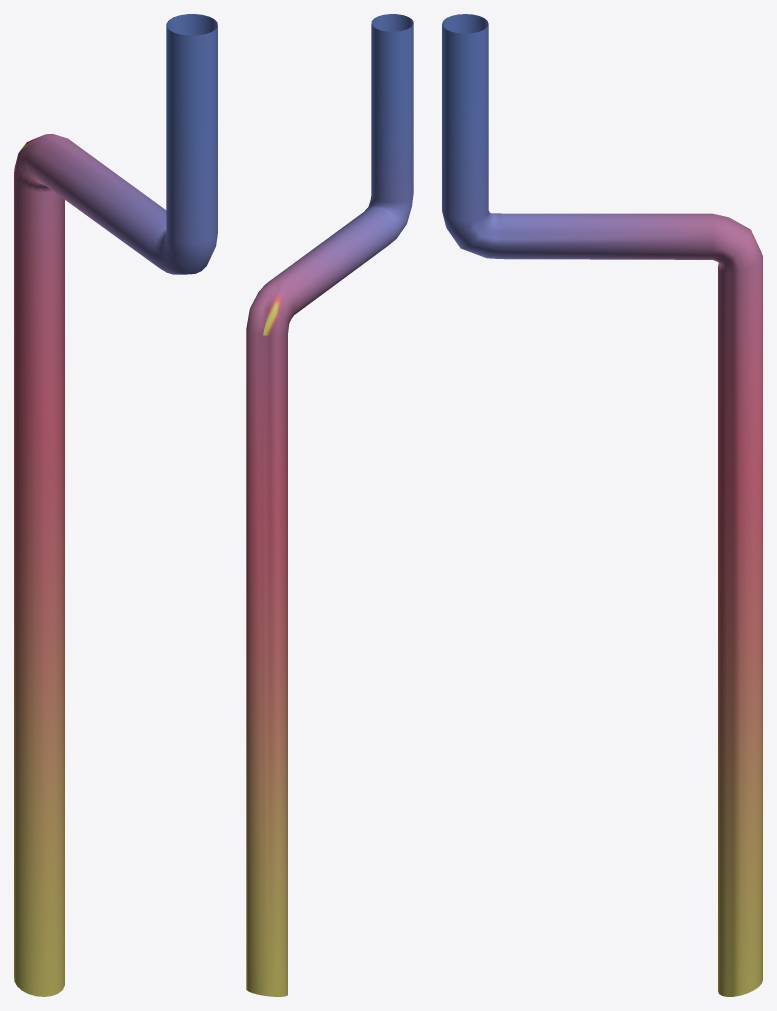
The model's file is Pipe2.fbx.
The picture shows the model from 3 angles, left to right: view 1: azimuth 30°, elevation 25°; view 2: azimuth 150°, elevation 25°; view 3: azimuth 270°, elevation 25°; orthographic projection. The views are drawn at different scales.
Parts seen in each view (by area): view 1: Pipe; view 2: Pipe; view 3: Pipe.
Part boxes in pixels (x1,y1,x2,y2): Pipe: (14, 14, 217, 996); Pipe: (246, 14, 413, 996); Pipe: (442, 14, 762, 996).
Size of the model in its own units: 2 by 45.82 by 13.77.
